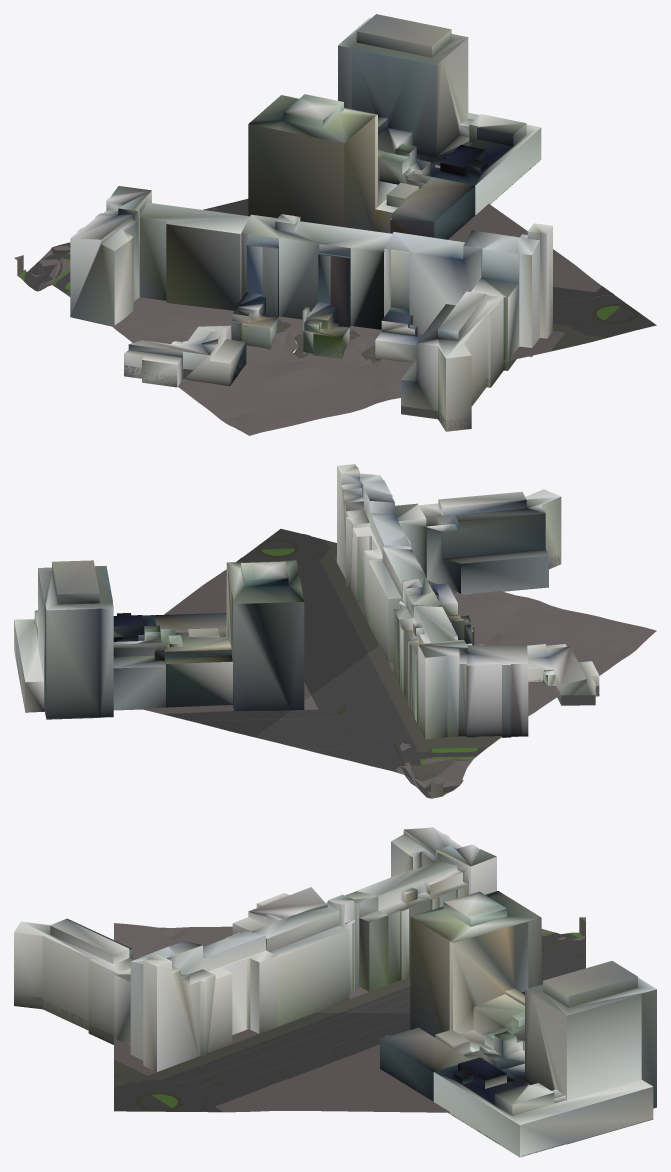
3 renders of one model, top to bottom at view 1: azimuth 30°, elevation 25°; view 2: azimuth 150°, elevation 25°; view 3: azimuth 270°, elevation 25°, orthographic. The views are drawn at different scales.
Parts seen in each view (by area): view 1: c_m11_p00, append:c_m11_p00; view 2: c_m11_p00, append:c_m11_p00; view 3: c_m11_p00, append:c_m11_p00.
Boxes of the visible parts, x1=… form: c_m11_p00: x1=70, y1=14, x2=656, y2=431; append:c_m11_p00: x1=14, y1=207, x2=413, y2=435; c_m11_p00: x1=14, y1=464, x2=599, y2=759; append:c_m11_p00: x1=255, y1=591, x2=656, y2=798; c_m11_p00: x1=14, y1=827, x2=656, y2=1157; append:c_m11_p00: x1=114, y1=917, x2=585, y2=1013.
Bounding box in the file's own units: 164 × 45.82 × 174.
